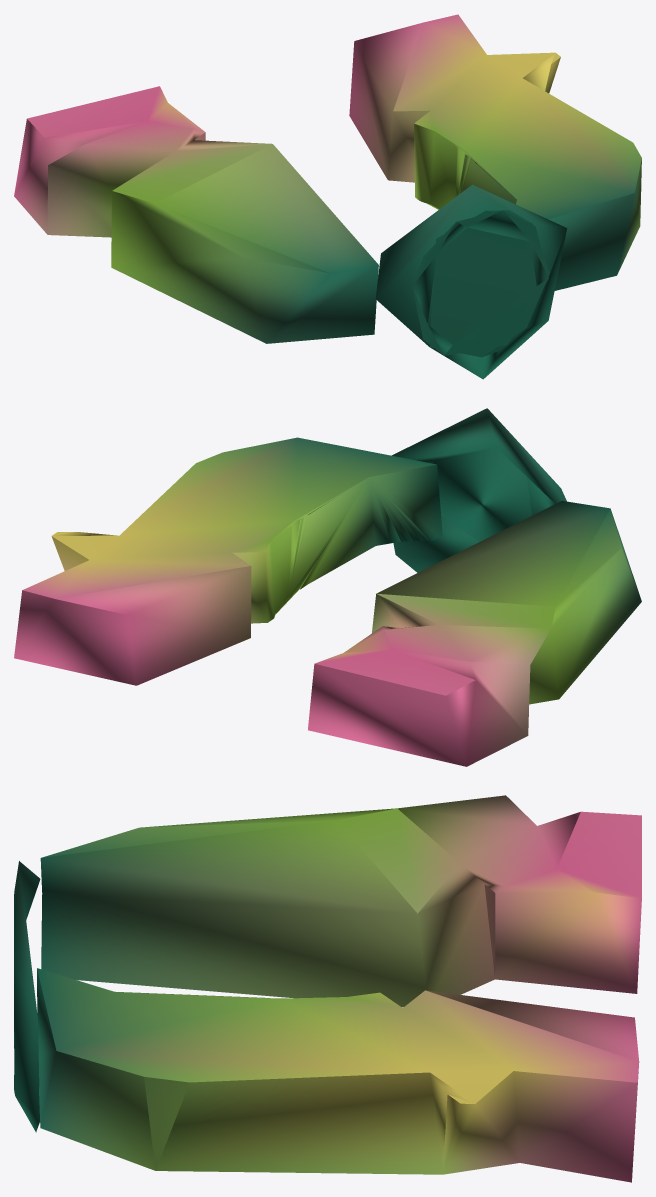
File: mesh_lod_4_e62aacea-18f0-56c2-86c5-de7b3e8ff5c5.glb
3 renders of one model, top to bottom at view 1: azimuth 30°, elevation 25°; view 2: azimuth 150°, elevation 25°; view 3: azimuth 270°, elevation 25°, orthographic. The views are drawn at different scales.
Parts seen in each view (by area): view 1: LOD 4_e62aacea-18f0-56c2-86c5-de7b3e8ff5c5; view 2: LOD 4_e62aacea-18f0-56c2-86c5-de7b3e8ff5c5; view 3: LOD 4_e62aacea-18f0-56c2-86c5-de7b3e8ff5c5.
Part boxes in pixels (box(x1,y1,x2,y2)): LOD 4_e62aacea-18f0-56c2-86c5-de7b3e8ff5c5: box(14, 14, 641, 379); LOD 4_e62aacea-18f0-56c2-86c5-de7b3e8ff5c5: box(14, 408, 641, 766); LOD 4_e62aacea-18f0-56c2-86c5-de7b3e8ff5c5: box(14, 795, 641, 1182).
Size of the model in its own units: 14.17 by 5.58 by 12.16.
